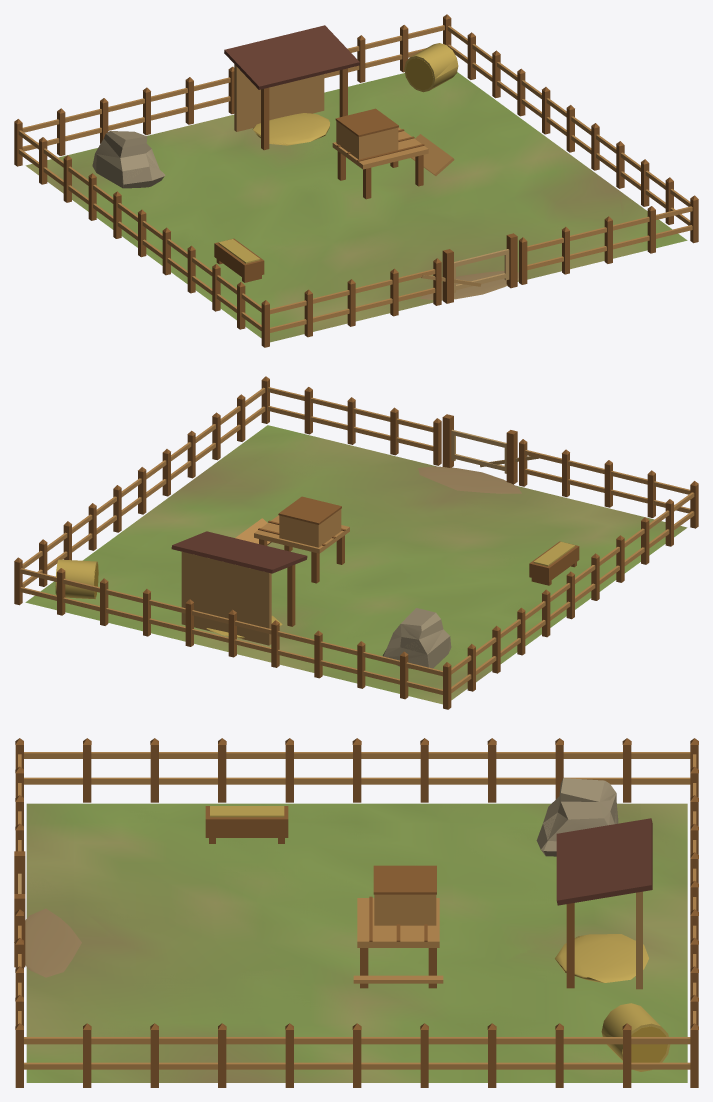
Rendered from goat_yard-g1.glb.
3 views of the same model, one above another, from view 1: azimuth 30°, elevation 25°; view 2: azimuth 150°, elevation 25°; view 3: azimuth 270°, elevation 25° (orthographic). The views are drawn at different scales.
Visible parts, largest first — view 1: home-goat_yard-g1, home-goat_yard-g1-far; view 2: home-goat_yard-g1, home-goat_yard-g1-far; view 3: home-goat_yard-g1, home-goat_yard-g1-far.
Boxes of the visible parts, left/top/right/bottom form: home-goat_yard-g1: left=14, top=14, right=698, bottom=347; home-goat_yard-g1-far: left=25, top=56, right=684, bottom=340; home-goat_yard-g1: left=14, top=376, right=698, bottom=709; home-goat_yard-g1-far: left=26, top=426, right=665, bottom=704; home-goat_yard-g1: left=14, top=738, right=698, bottom=1087; home-goat_yard-g1-far: left=26, top=787, right=687, bottom=1082.
Size of the model in its own units: 9.93 by 1.8 by 9.95.
